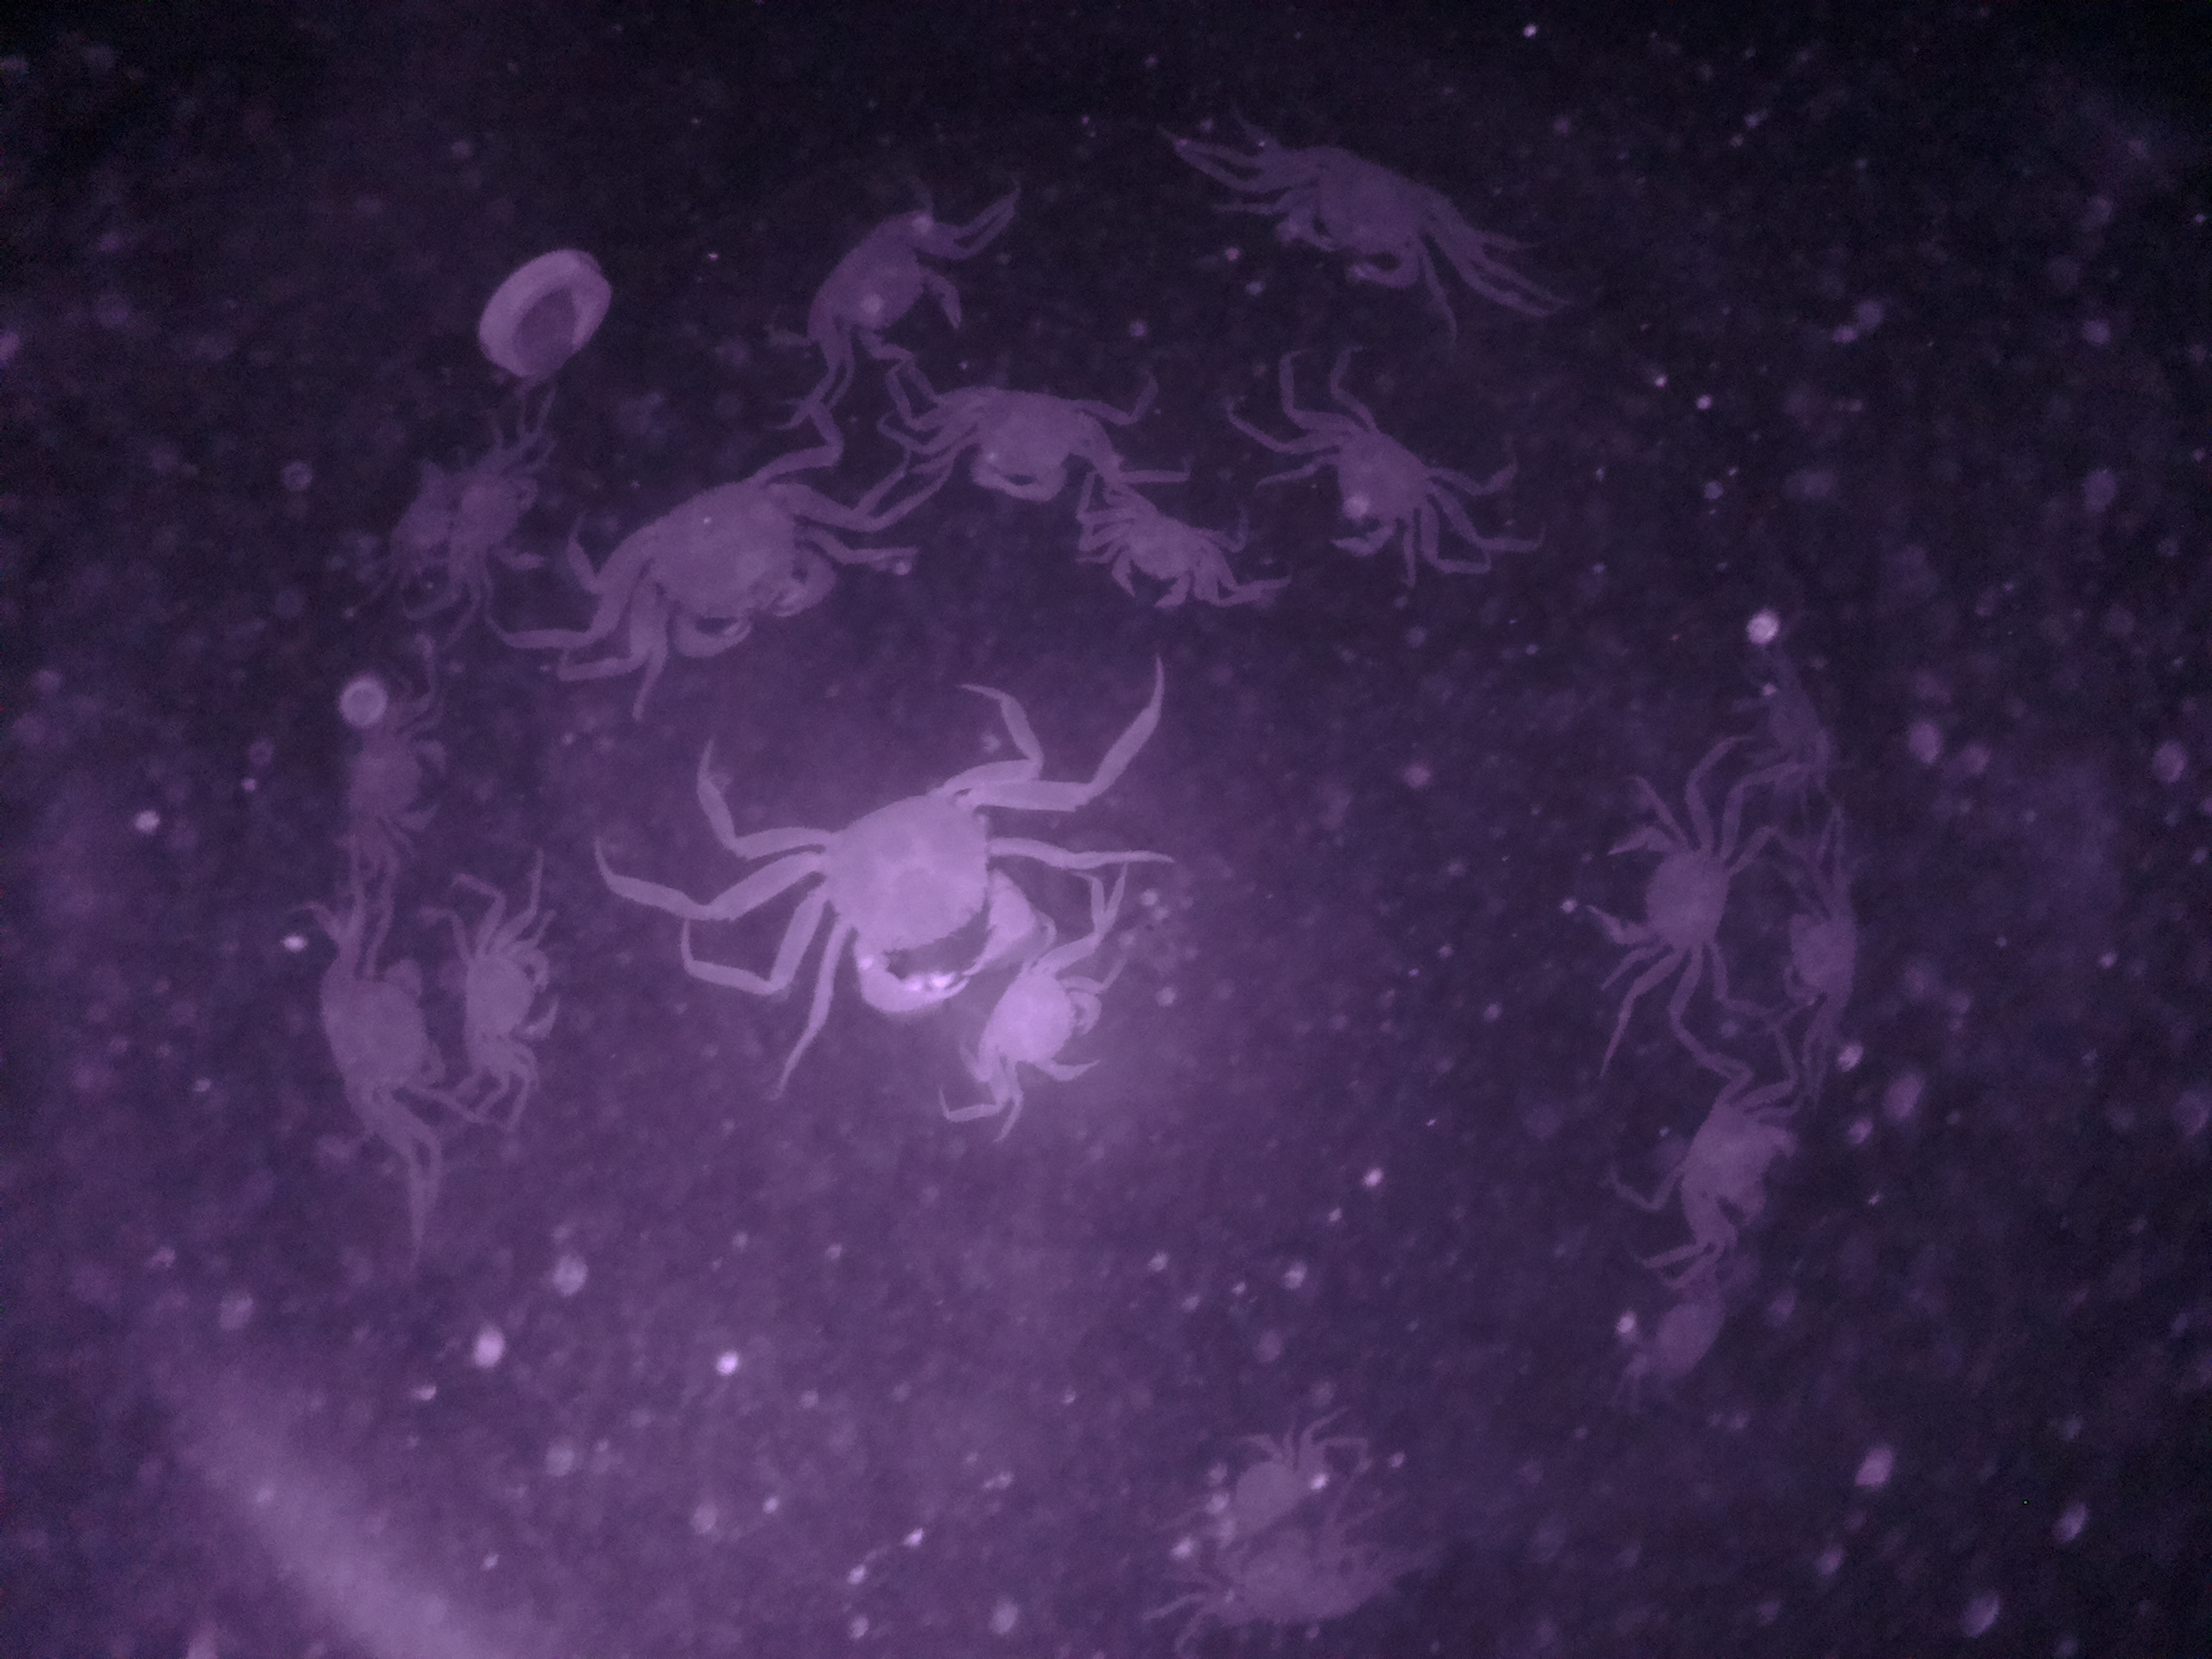Crab: (770, 777, 1036, 1033), (583, 451, 848, 671), (1245, 132, 1498, 303), (951, 929, 1127, 1119), (301, 948, 451, 1152), (1581, 819, 1749, 993), (1289, 403, 1460, 566), (437, 903, 582, 1094), (817, 213, 979, 382), (935, 352, 1115, 504), (1653, 1079, 1801, 1258), (327, 708, 458, 849), (1075, 488, 1221, 608)
